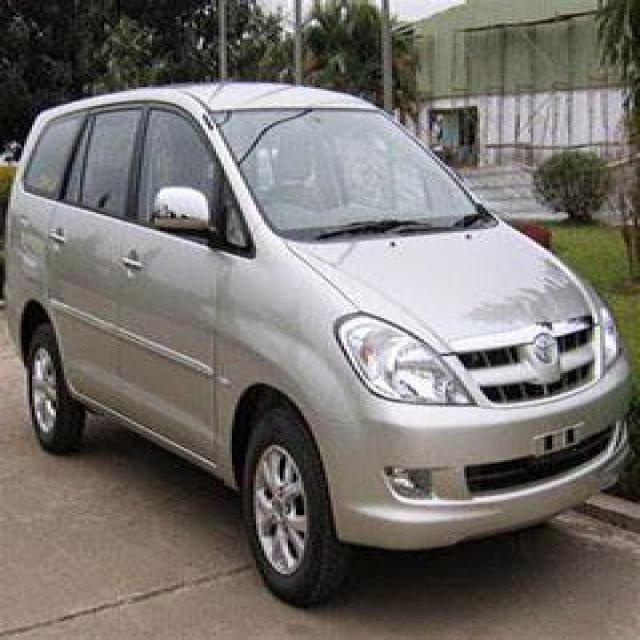car: (0, 53, 635, 617)
